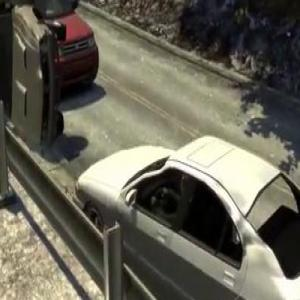critical: (0, 0, 70, 159)
